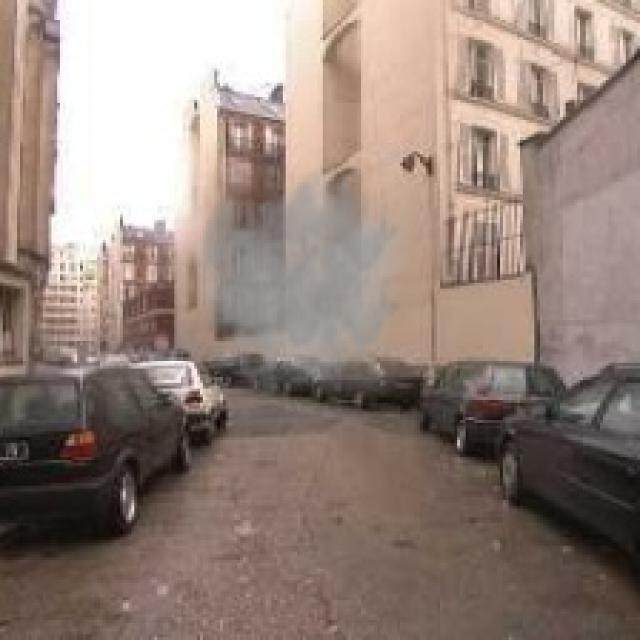Smoke: (182, 166, 408, 403)
